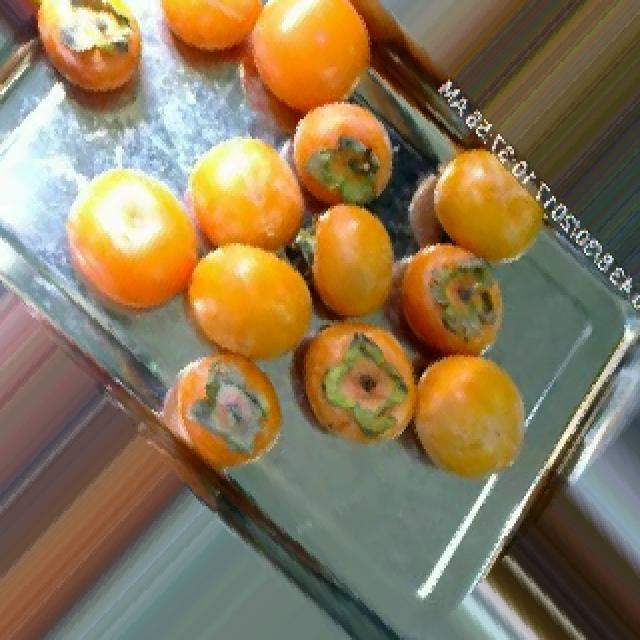Fruit: (384, 330, 558, 518), (274, 300, 436, 467)
